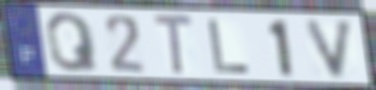1: (267, 17, 295, 78)
2: (104, 13, 147, 75)
L: (205, 17, 253, 75)
Q: (43, 11, 102, 74)
T: (151, 11, 196, 78)
V: (303, 18, 358, 81)
